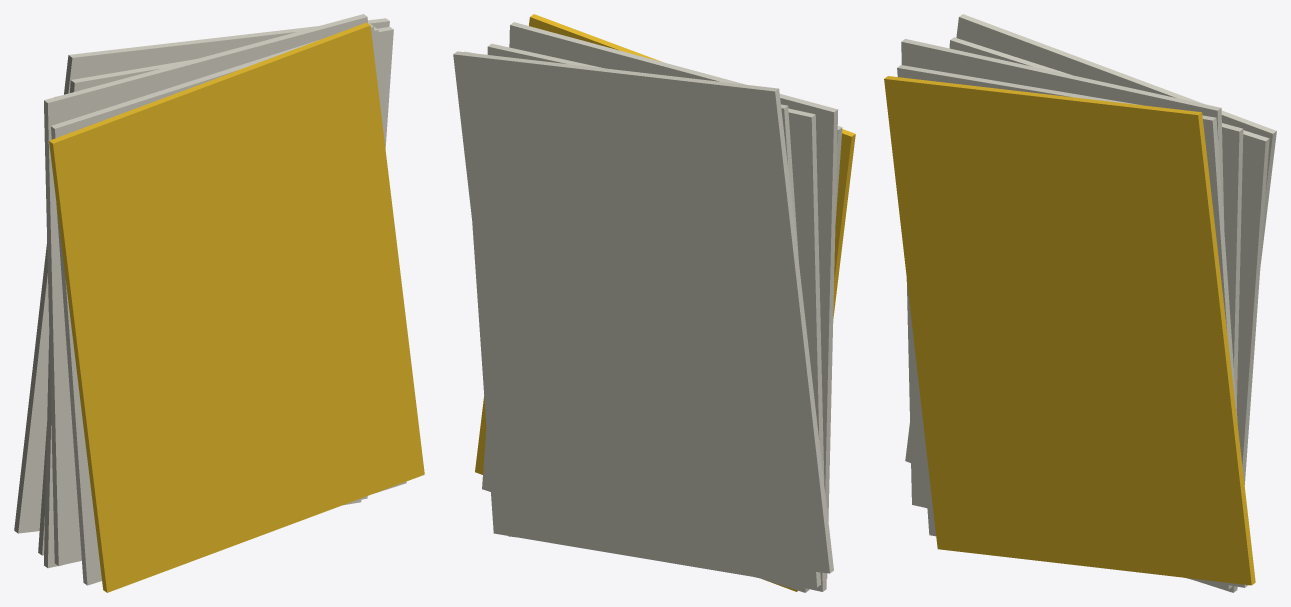
Rendered from prova.obj.
3 views of the same model, side by side, from view 1: azimuth 30°, elevation 25°; view 2: azimuth 150°, elevation 25°; view 3: azimuth 330°, elevation 25° (orthographic). The views are drawn at different scales.
Visible parts, largest first — view 1: prova; view 2: prova; view 3: prova.
Part boxes in pixels (x1,y1,x2,y2): prova: (14, 14, 424, 592); prova: (453, 14, 855, 592); prova: (884, 14, 1276, 592).
Bounding box in the file's own units: 0.5441 × 0.709 × 0.08.
